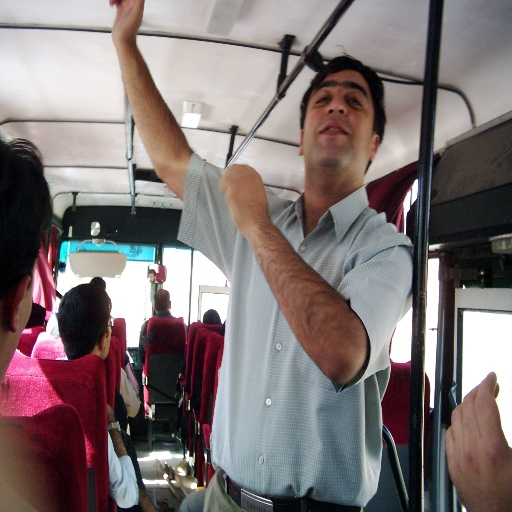hand: (442, 372, 510, 511), (217, 163, 268, 233), (108, 0, 145, 43)
